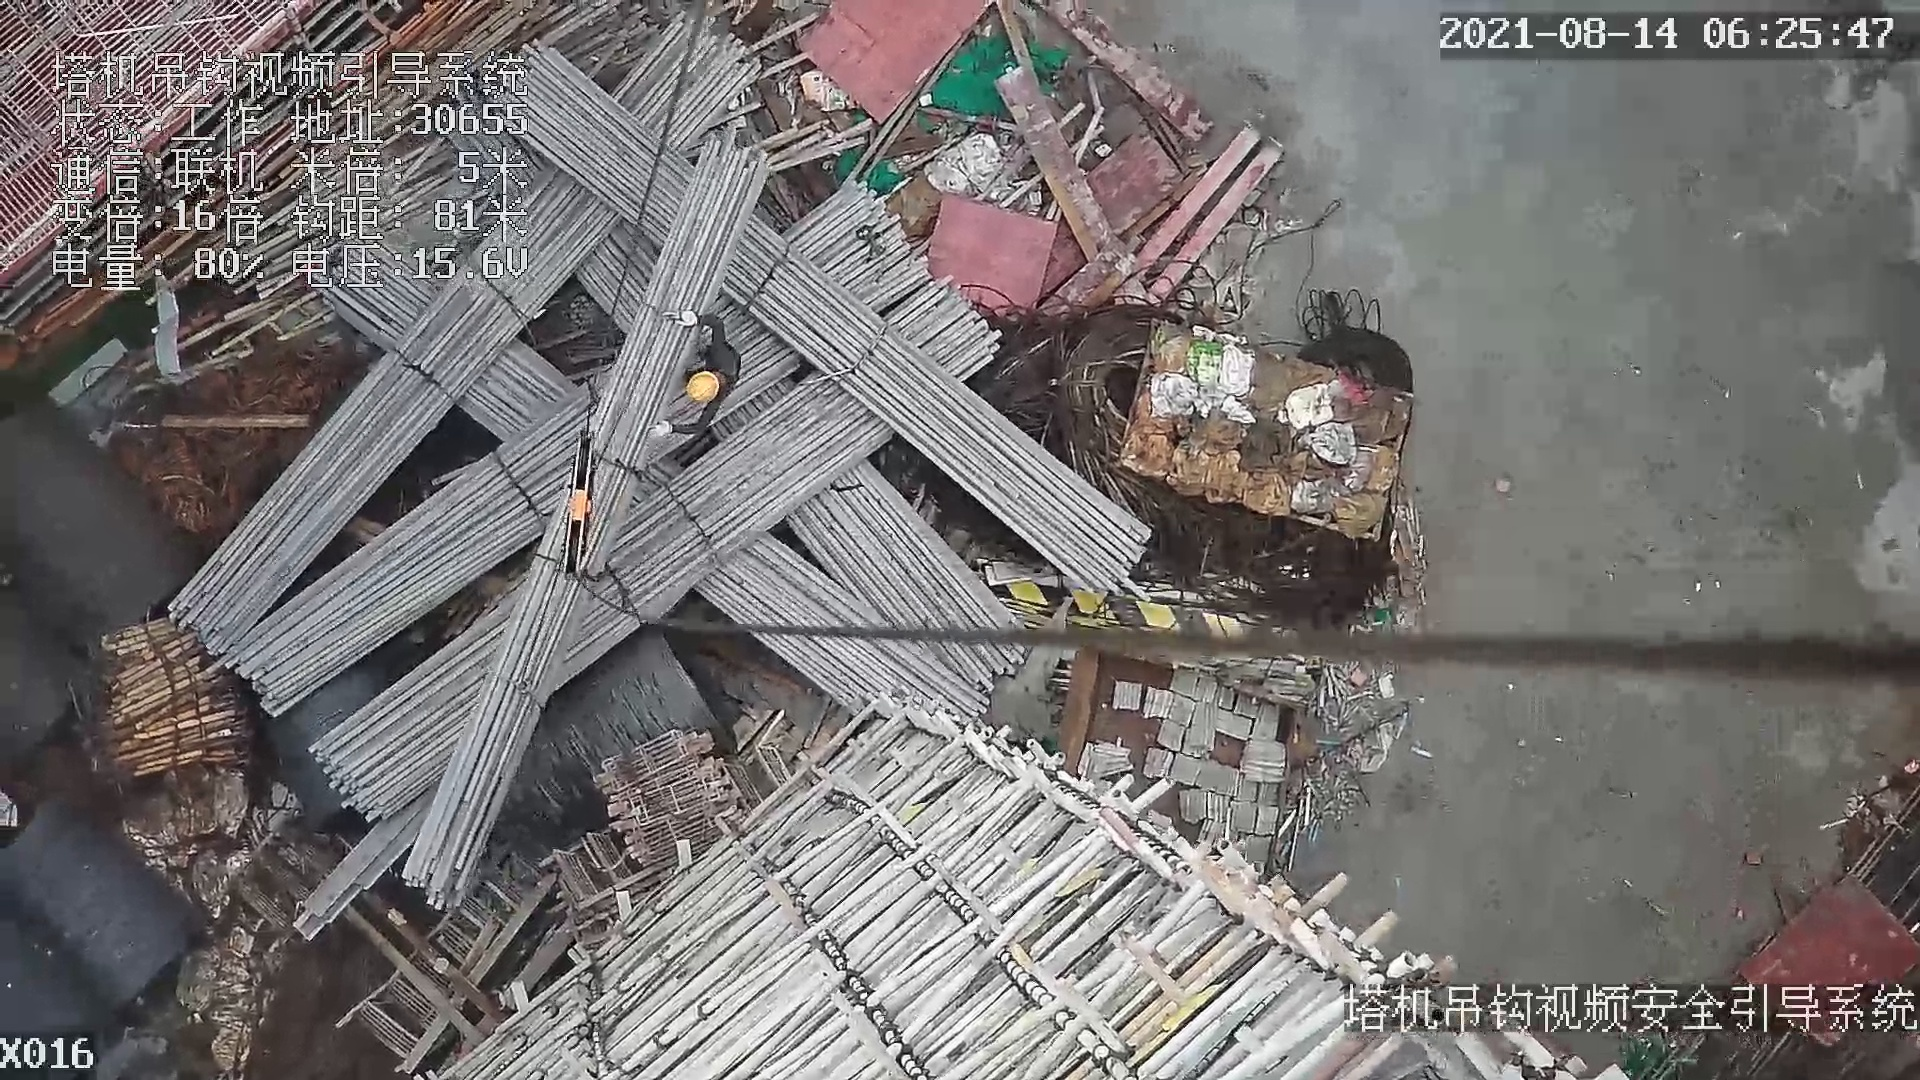helmet: (684, 368, 721, 409)
hook: (555, 422, 601, 592)
person: (656, 299, 759, 437)
